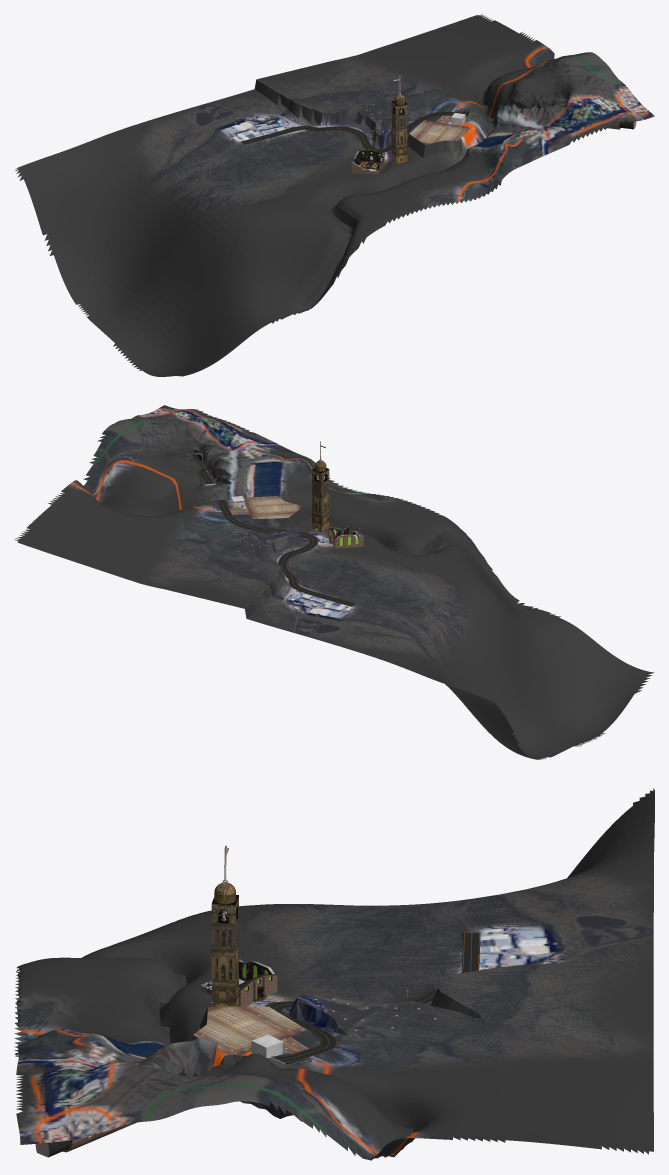
Rendered from Entorno_05_Nov_2024.fbx.
3 views of the same model, one above another, from view 1: azimuth 30°, elevation 25°; view 2: azimuth 150°, elevation 25°; view 3: azimuth 270°, elevation 25° (orthographic). The views are drawn at different scales.
Visible parts, largest first — view 1: Plane.002, Campanario_Torre, Iglesia; view 2: Plane.002, Campanario_Torre, Iglesia; view 3: Plane.002, Campanario_Torre, Iglesia, Fabrica, Campanario_Arriba.
Part boxes in pixels (x1,y1,x2,y2): Plane.002: [15, 14, 654, 376]; Campanario_Torre: [391, 101, 407, 163]; Iglesia: [352, 149, 384, 174]; Plane.002: [14, 405, 654, 759]; Campanario_Torre: [312, 468, 329, 531]; Iglesia: [328, 526, 363, 548]; Plane.002: [14, 788, 654, 1160]; Campanario_Torre: [211, 895, 238, 1006]; Iglesia: [200, 959, 277, 1006]; Fabrica: [251, 1034, 282, 1057]; Campanario_Arriba: [214, 845, 236, 903].
Bounding box in the file's own units: 177977 × 79825 × 104090.
